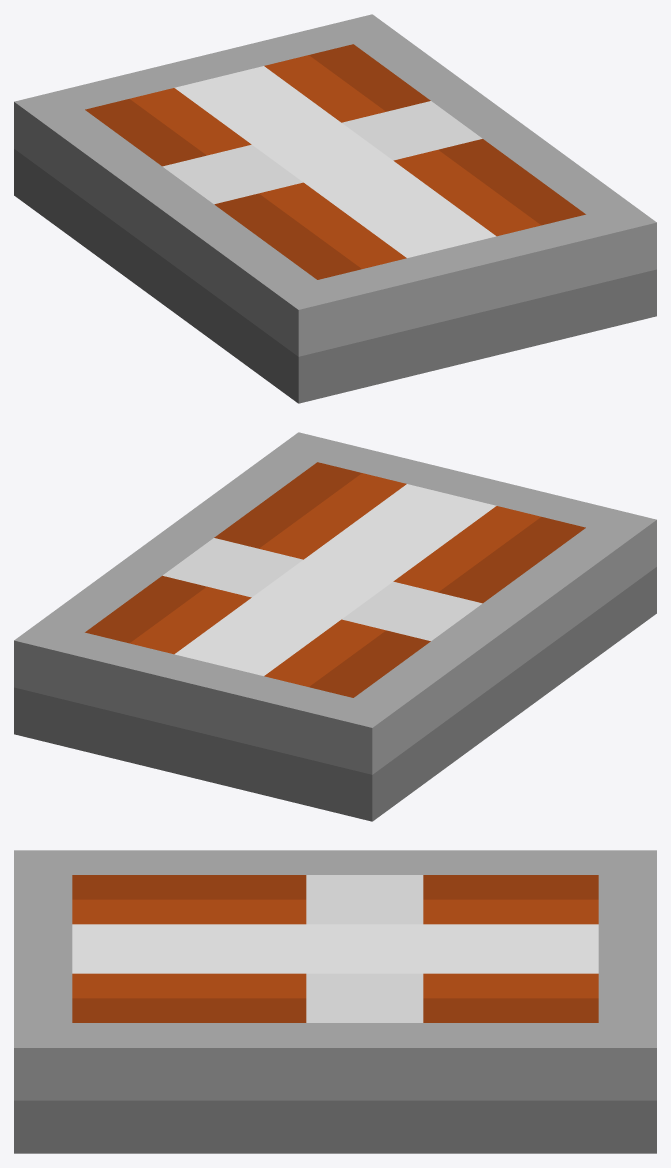
Rendered from item_GREATSHIELD.glb.
3 renders of one model, top to bottom at view 1: azimuth 30°, elevation 25°; view 2: azimuth 150°, elevation 25°; view 3: azimuth 270°, elevation 25°, orthographic. The views are drawn at different scales.
Parts seen in each view (by area): view 1: item_GREATSHIELD; view 2: item_GREATSHIELD; view 3: item_GREATSHIELD.
Part boxes in pixels (box(x1,y1,x2,y2)): item_GREATSHIELD: box(14, 14, 656, 403); item_GREATSHIELD: box(14, 432, 656, 821); item_GREATSHIELD: box(14, 850, 656, 1153).
Bounding box in the file's own units: 0.3636 × 0.0909 × 0.5.
1 material, 1 textured.
